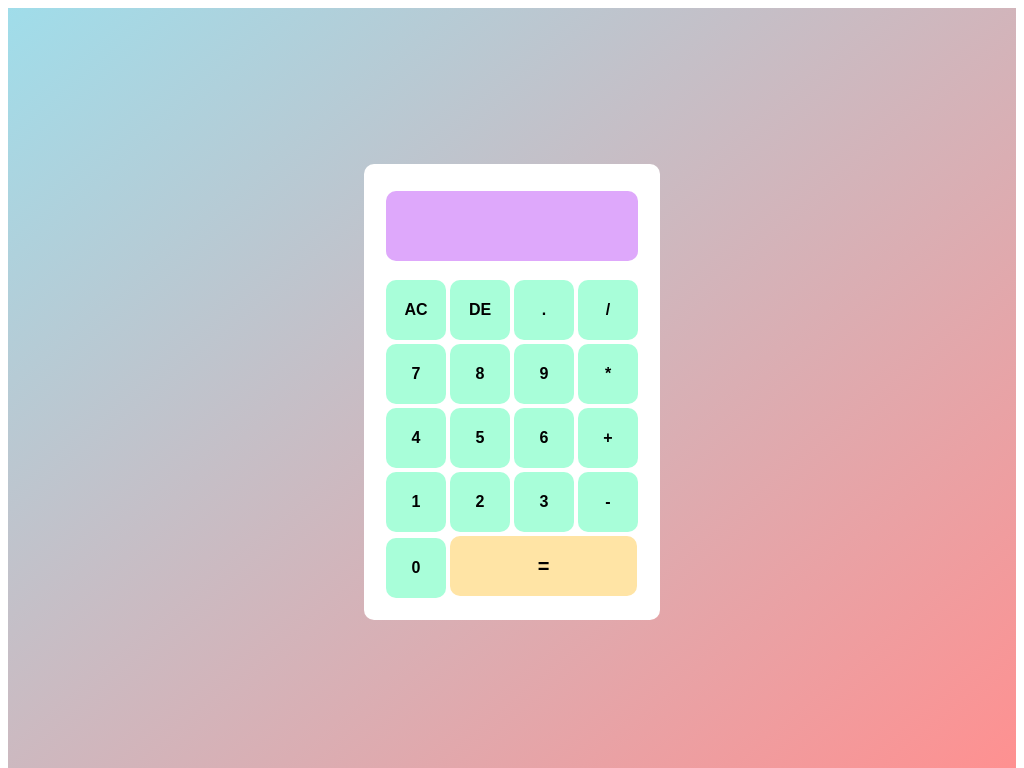
Test: Calculatrice › Affiche les opérateurs correctement
What coordinates should you click on to do the following:
click the button "7"
I would click on:
 (416, 374)
Its box is [386, 344, 446, 404].
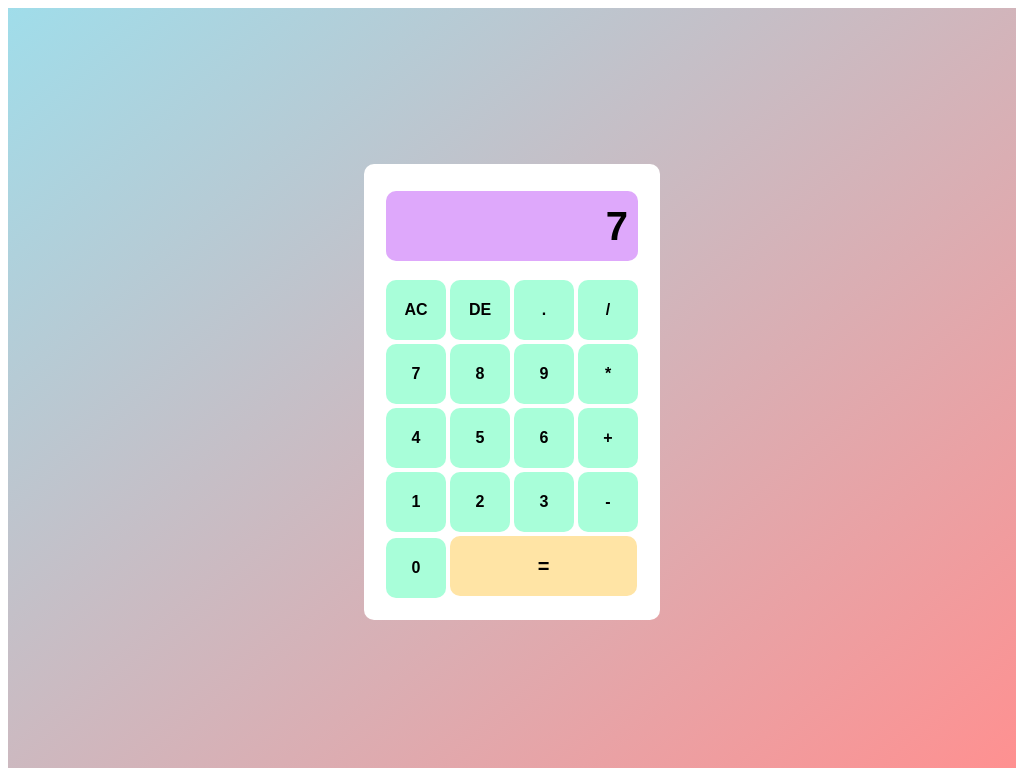
What coordinates should you click on to do the following:
click the button "+"
I would click on:
 (608, 438)
Its box is [578, 408, 638, 468].
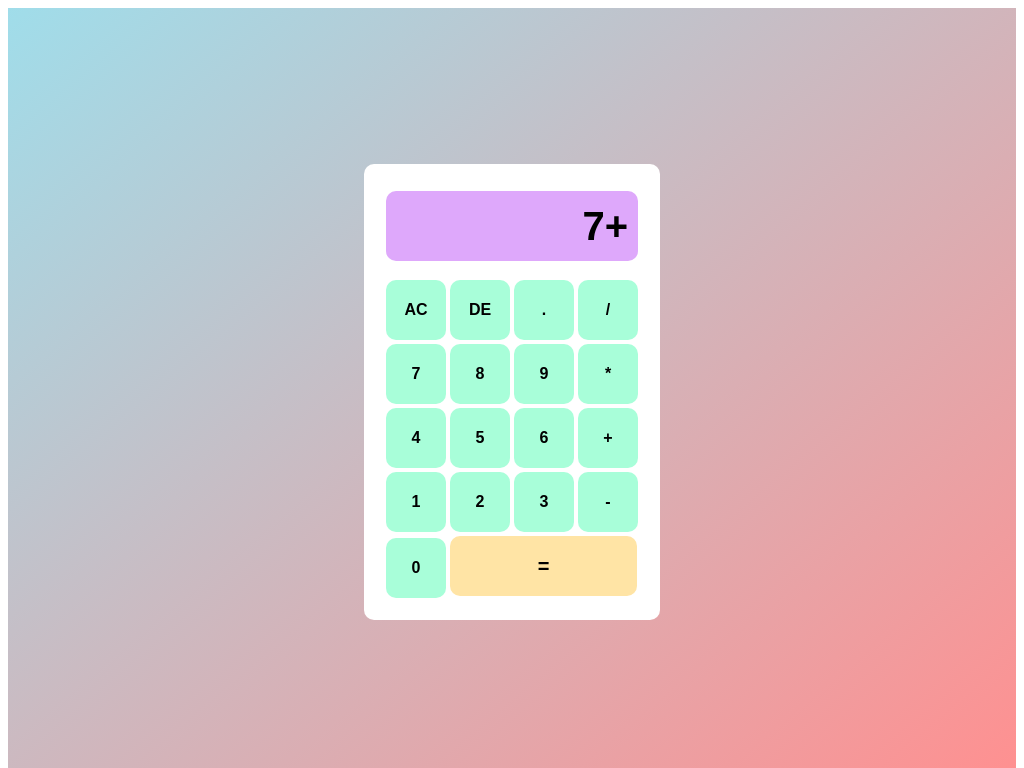
What coordinates should you click on to do the following:
click the button "3"
I would click on:
 (544, 502)
Its box is [514, 472, 574, 532].
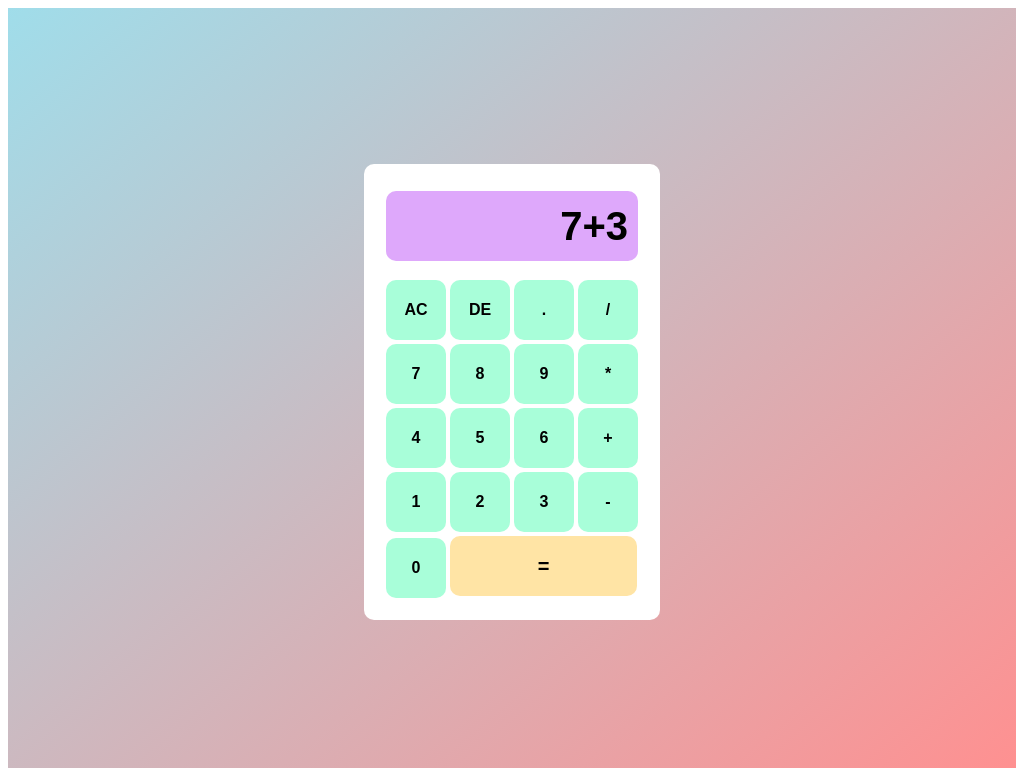
Now the field holds "7+3", box [386, 191, 638, 261]
